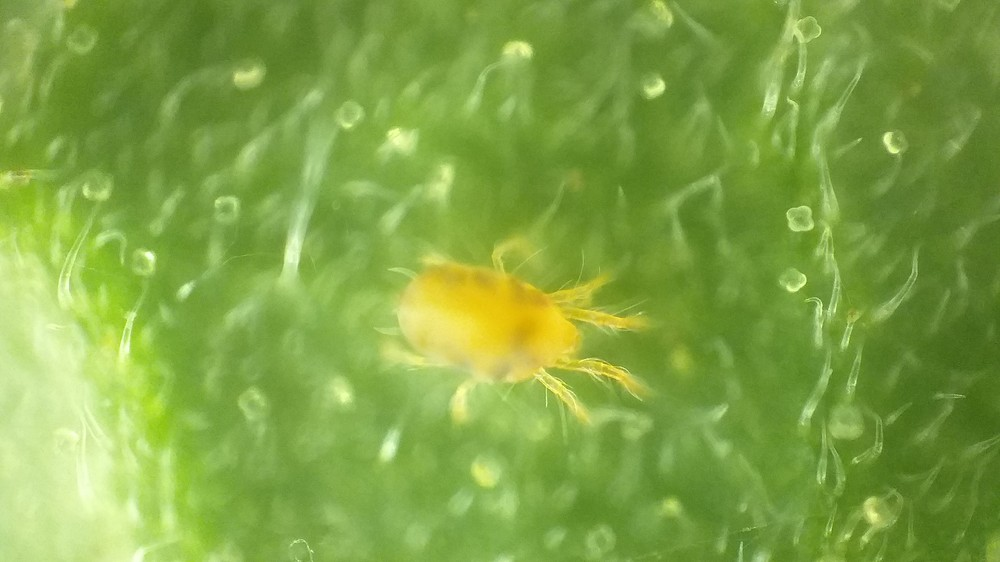Aracnido Rojo: (360, 227, 670, 459)
